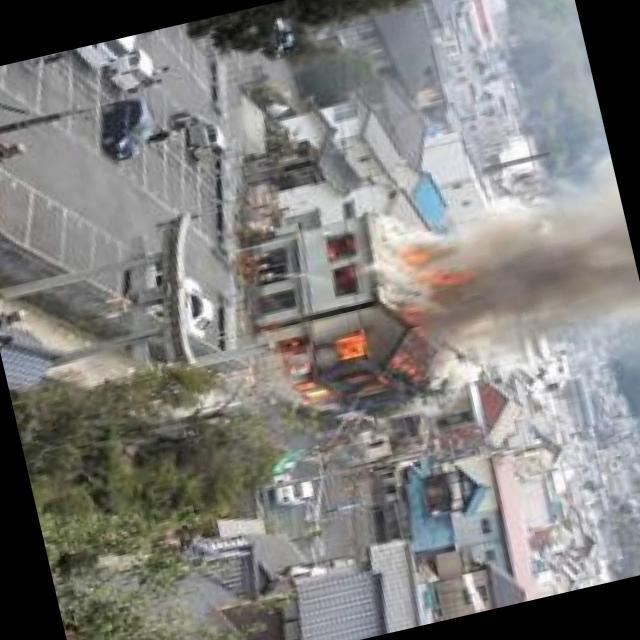Fire: (275, 310, 417, 417), (402, 237, 479, 297)
